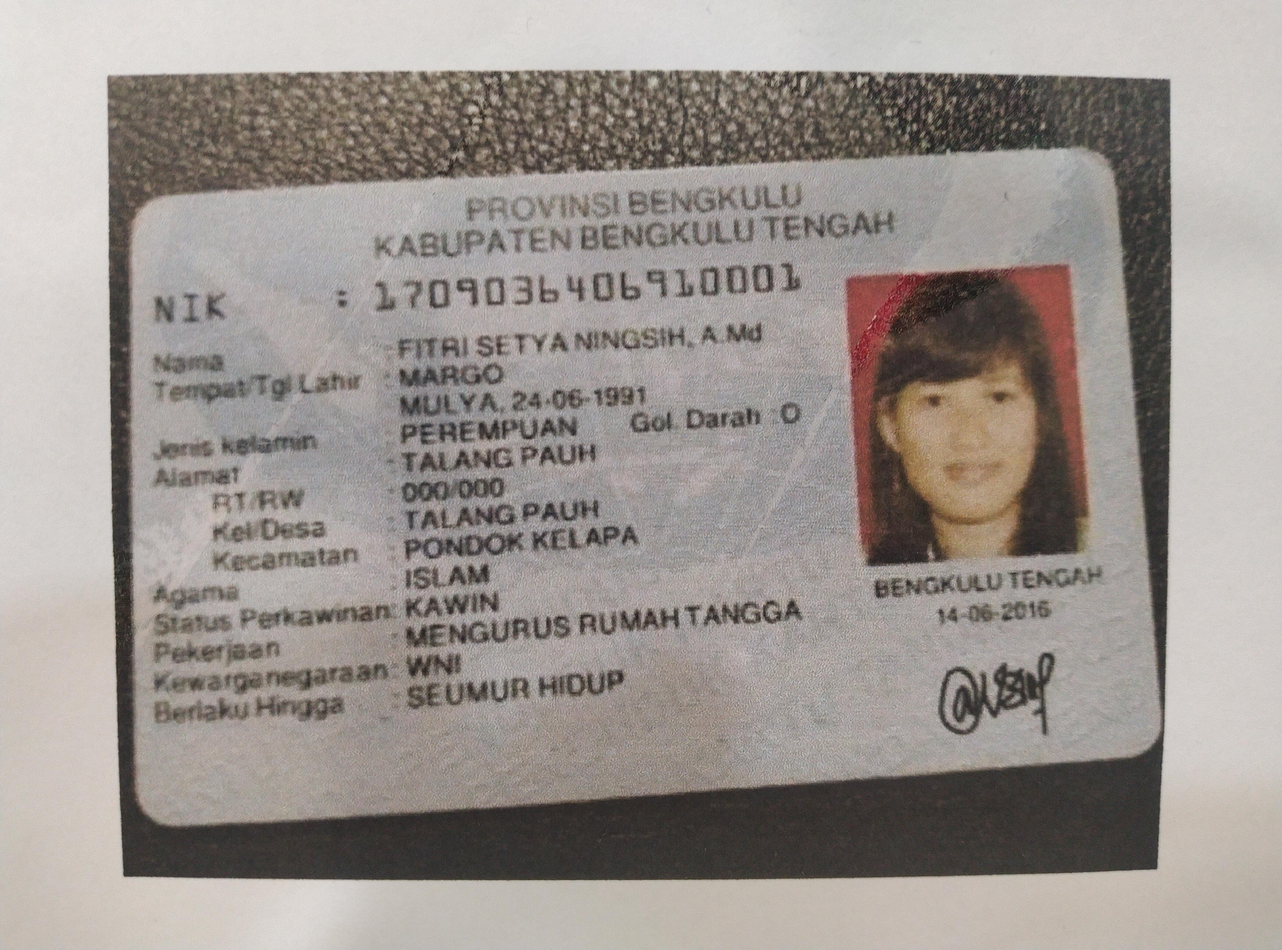ID-card: (145, 147, 1159, 818)
